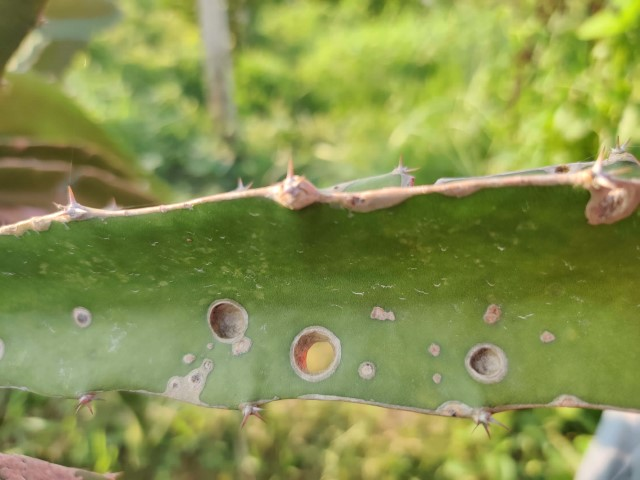stemcanker: (286, 324, 344, 383), (205, 297, 252, 342), (465, 342, 510, 382), (542, 163, 583, 176), (403, 175, 443, 188)
